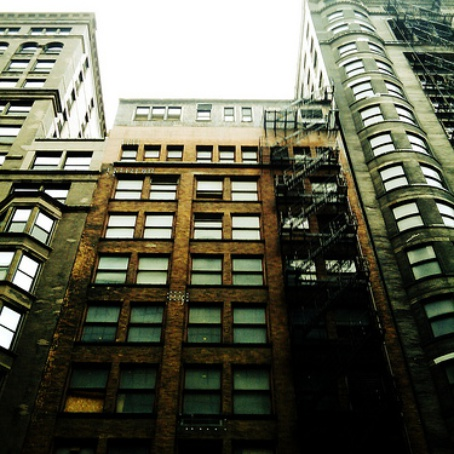building: (69, 102, 371, 454), (305, 6, 454, 454), (1, 8, 102, 454)
sky: (102, 1, 299, 96)
